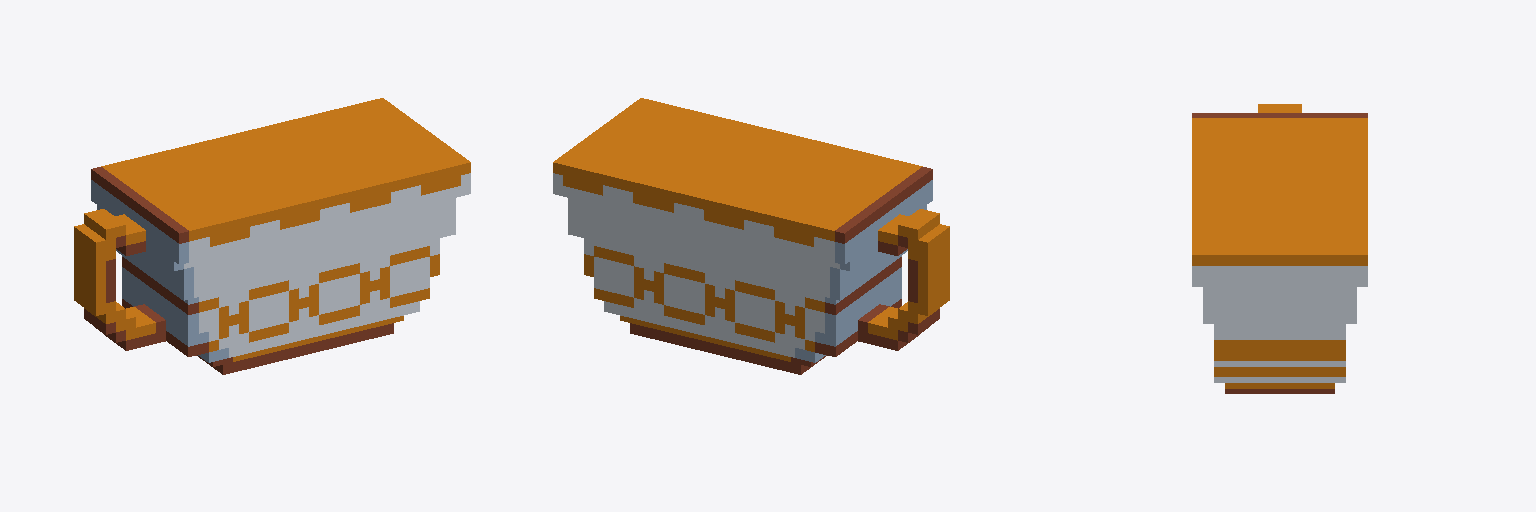
The model's file is Teacup.obj.
3 renders of one model, left to right at view 1: azimuth 30°, elevation 25°; view 2: azimuth 150°, elevation 25°; view 3: azimuth 270°, elevation 25°, orthographic.
Size of the model in its own units: 34 by 16 by 15.2.